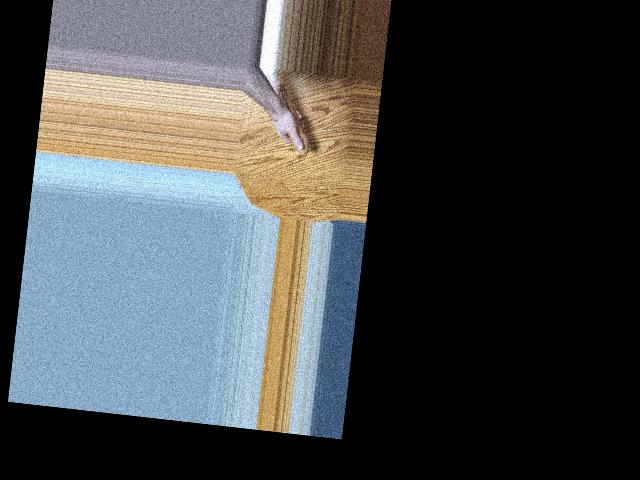sweet_potato: (268, 81, 314, 152)
